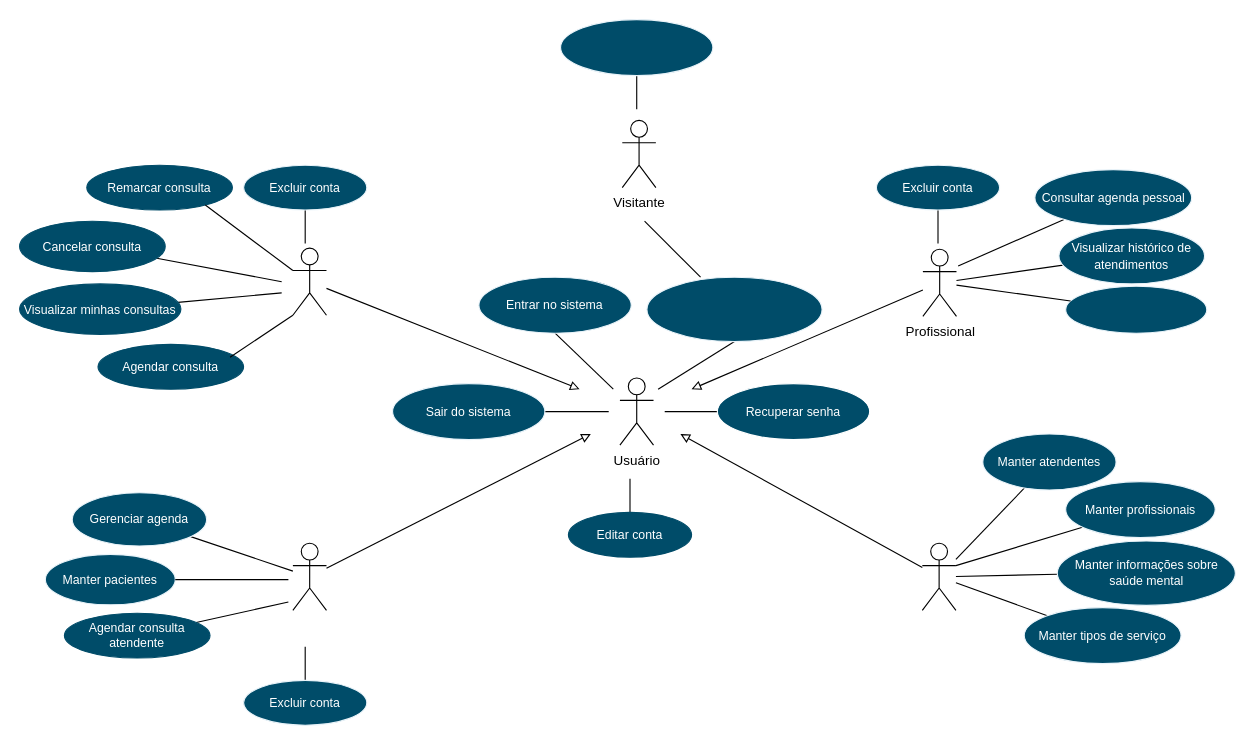
This 1256x745 diagram has some shape labels left out. Here are the shapes that lost their labels. From the top down, the centre of each, then its label:
At point 636,47: "Criar conta no sistema".
At point 309,281: "Paciente".
At point 734,309: "Visualizar informações da clínica".
At point 1136,309: "Registrar atendimento".
At point 309,576: "Atendente".
At point 938,576: "Admin".
